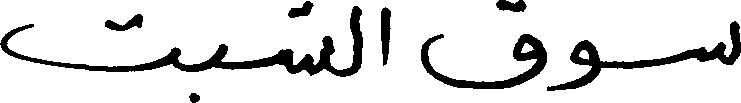X: (0, 9, 176, 76), (421, 0, 546, 93), (289, 0, 330, 80), (699, 16, 740, 69), (571, 35, 598, 93), (351, 1, 362, 79), (381, 2, 389, 70), (215, 39, 227, 73)
